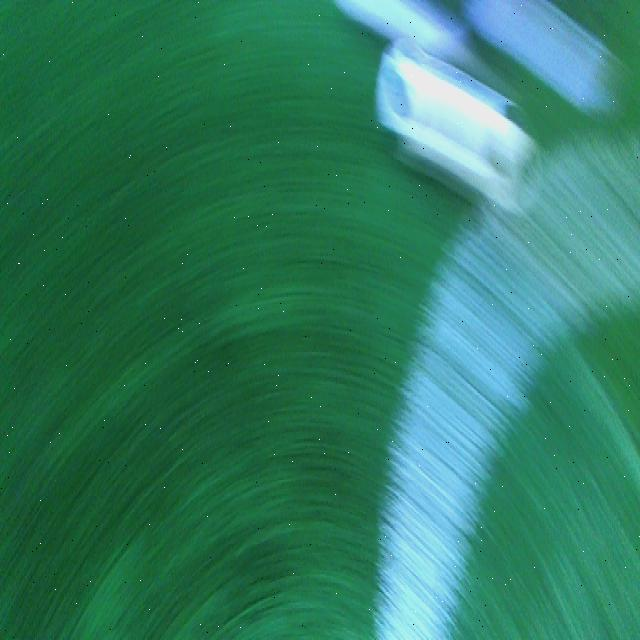ball: (377, 45, 531, 215)
